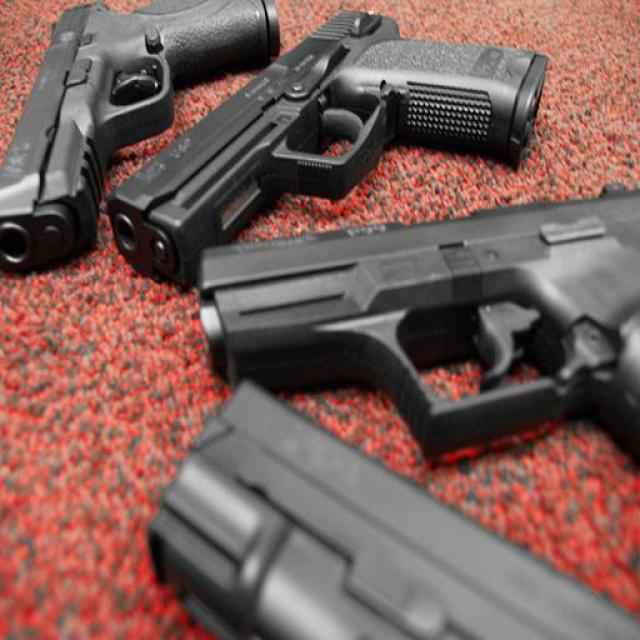pistol: (194, 174, 640, 488), (142, 374, 640, 634), (100, 11, 549, 290), (2, 1, 280, 276)
